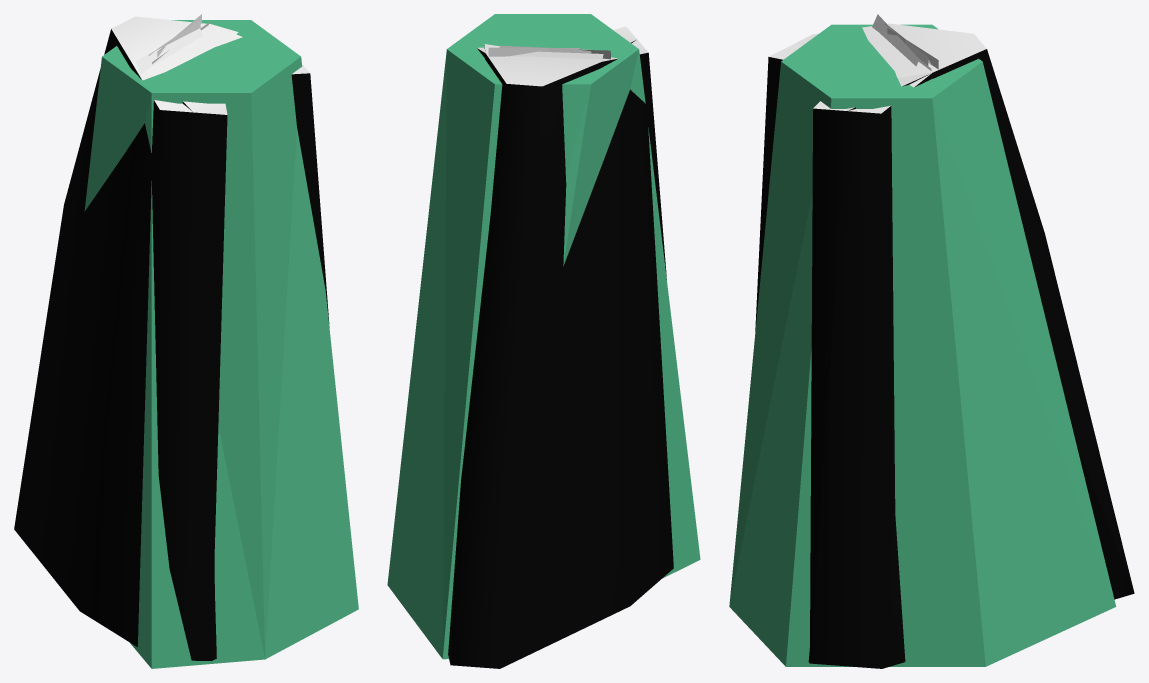
The model's file is tree_beech_chopped_b.dae.
3 views of the same model, side by side, from view 1: azimuth 30°, elevation 25°; view 2: azimuth 150°, elevation 25°; view 3: azimuth 270°, elevation 25° (orthographic). The views are drawn at different scales.
Parts seen in each view (by area): view 1: tree_oak_large_c180, Colmesh-1, tree_oak_large_c100; view 2: tree_oak_large_c180, Colmesh-1, tree_oak_large_c100; view 3: Colmesh-1, tree_oak_large_c180, tree_oak_large_c100.
Part boxes in pixels (x1,y1,x2,y2): tree_oak_large_c180: [14, 14, 329, 661]; Colmesh-1: [84, 20, 358, 668]; tree_oak_large_c100: [182, 24, 242, 660]; tree_oak_large_c180: [450, 26, 673, 668]; Colmesh-1: [387, 14, 700, 659]; tree_oak_large_c100: [448, 39, 636, 664]; Colmesh-1: [729, 24, 1116, 666]; tree_oak_large_c180: [755, 14, 1133, 668]; tree_oak_large_c100: [791, 44, 1134, 668].
Bounding box in the file's own units: 0.8003 × 1.21 × 1.86.
